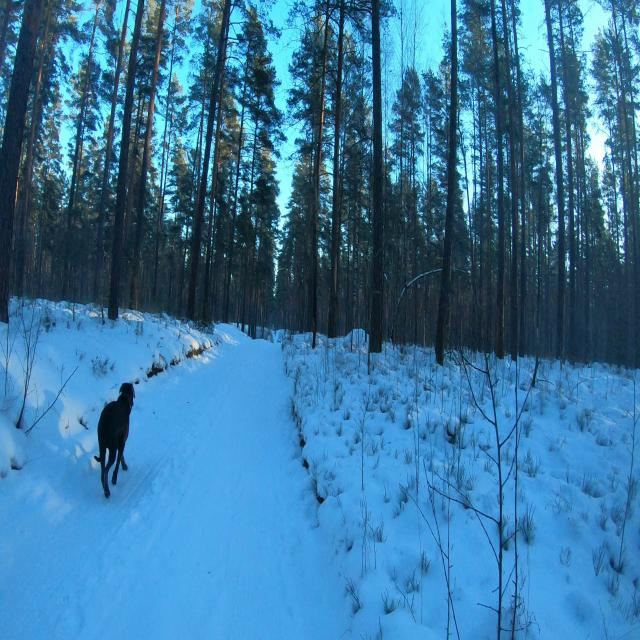bush: (476, 353, 512, 640), (16, 301, 41, 428)
trees: (187, 0, 231, 319), (0, 0, 43, 322), (188, 0, 231, 319), (108, 0, 143, 320), (93, 0, 130, 299), (62, 0, 99, 298), (17, 0, 54, 295), (130, 0, 165, 308), (151, 3, 180, 302), (436, 0, 457, 365), (545, 0, 565, 361), (223, 50, 249, 322), (311, 0, 330, 349), (558, 0, 576, 361), (502, 0, 518, 360), (328, 0, 345, 337), (511, 0, 527, 355), (369, 0, 384, 353), (203, 85, 224, 317), (491, 0, 504, 359), (125, 81, 145, 244), (194, 35, 210, 175), (461, 148, 475, 273), (249, 110, 258, 234), (413, 140, 418, 348), (168, 197, 177, 301), (354, 200, 361, 325), (399, 98, 404, 213), (346, 214, 350, 329), (262, 282, 268, 337), (252, 288, 258, 338), (400, 6, 404, 79), (242, 278, 247, 331), (246, 242, 253, 268), (257, 239, 261, 263), (209, 5, 213, 23), (256, 97, 260, 110)
